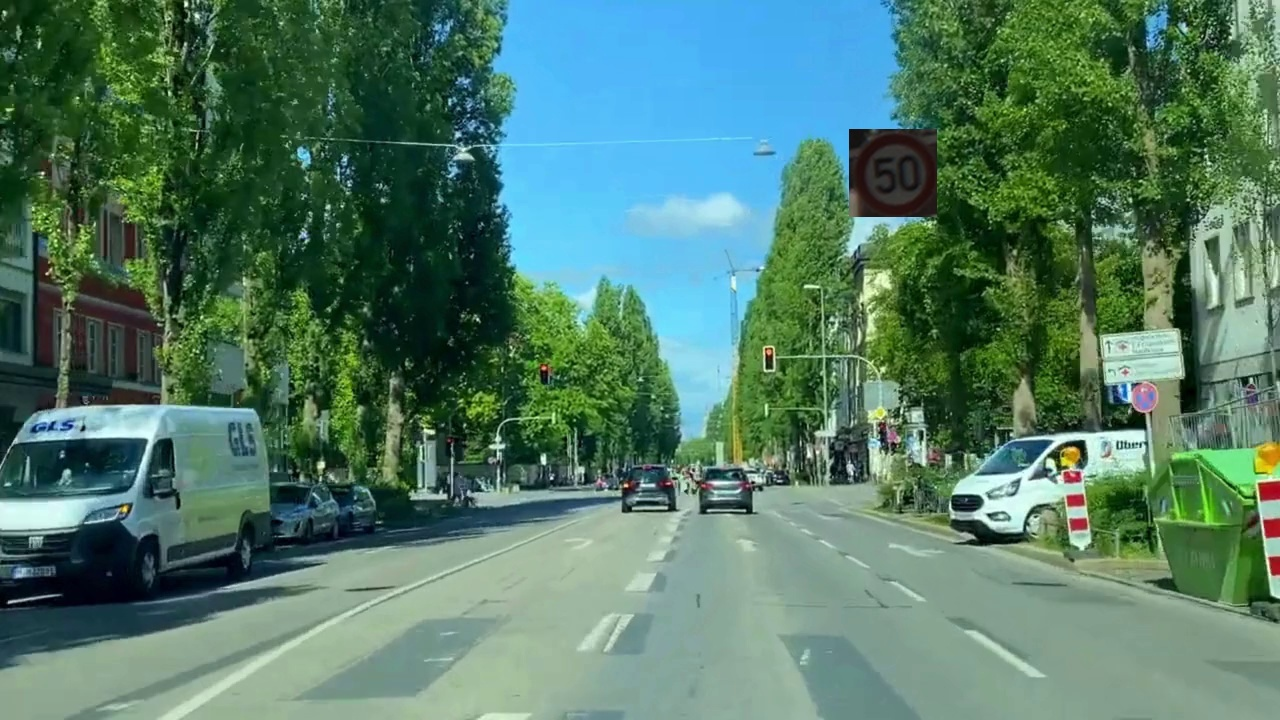Speed 50: (849, 129, 937, 217)
